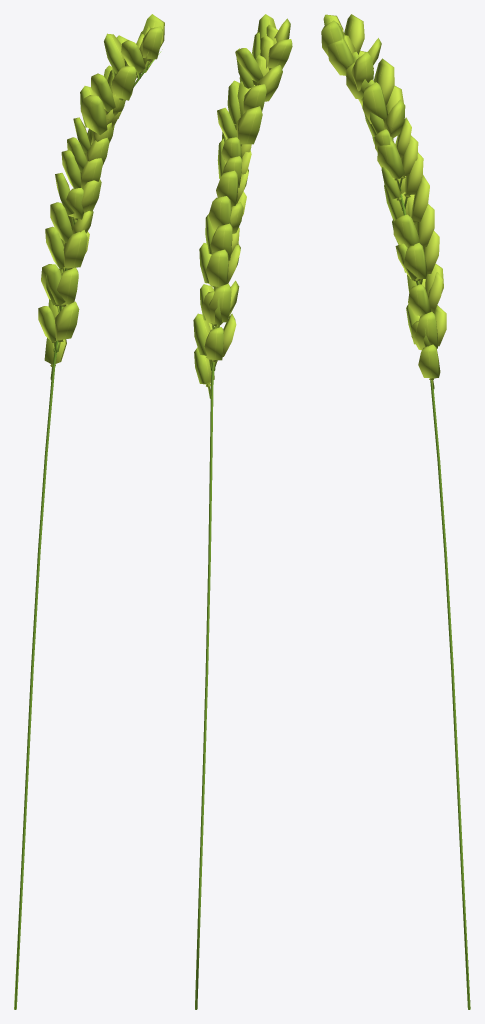
File: RiceFlower8_LOD.fbx
The picture shows the model from 3 angles, left to right: view 1: azimuth 90°, elevation 25°; view 2: azimuth 150°, elevation 25°; view 3: azimuth 270°, elevation 25°; orthographic projection. The views are drawn at different scales.
Parts seen in each view (by area): view 1: RiceFlower8_LOD0; view 2: RiceFlower8_LOD0; view 3: RiceFlower8_LOD0.
Boxes of the visible parts, <box> form: RiceFlower8_LOD0: <box>14,14,164,1009</box>; RiceFlower8_LOD0: <box>193,14,292,1009</box>; RiceFlower8_LOD0: <box>321,14,470,1009</box>.
Size of what is drawn, in the model's own units: 39.62 by 597 by 81.87.
1 material, 1 textured.
